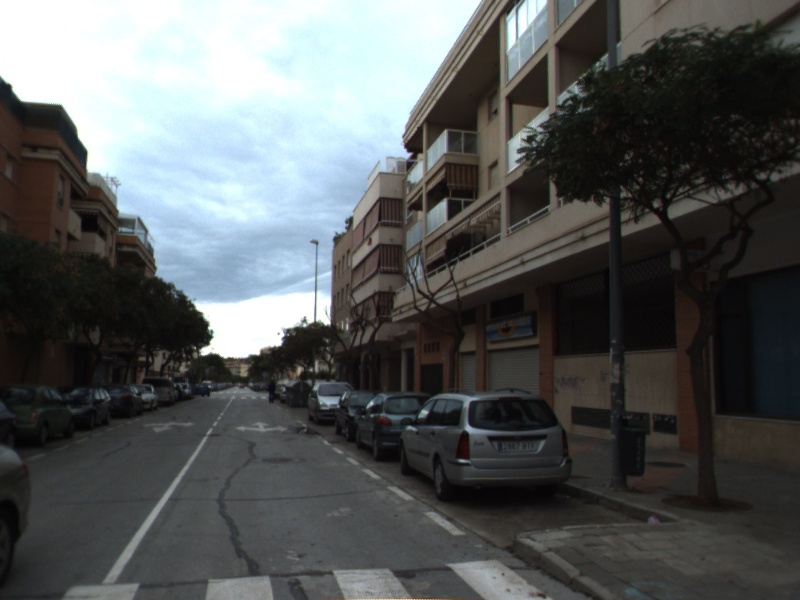STRAIGHT_LEFT_RIGHT: (233, 418, 291, 434)
